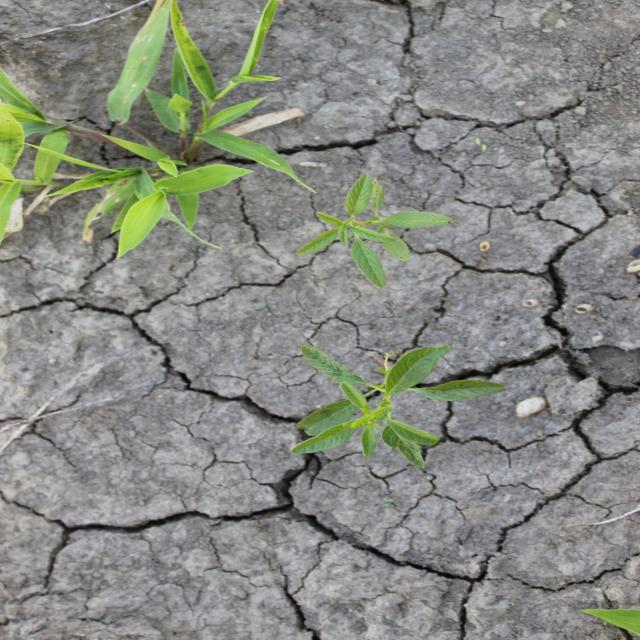Waterhemp: (289, 343, 509, 470), (294, 171, 457, 289)
